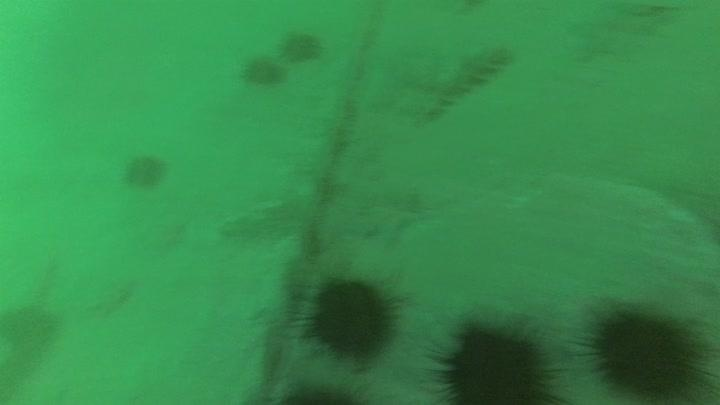echinus: (581, 300, 712, 401), (428, 317, 561, 403), (302, 272, 401, 363), (121, 151, 169, 191), (277, 27, 325, 65), (240, 53, 287, 89)
holothurian: (411, 40, 514, 123)
